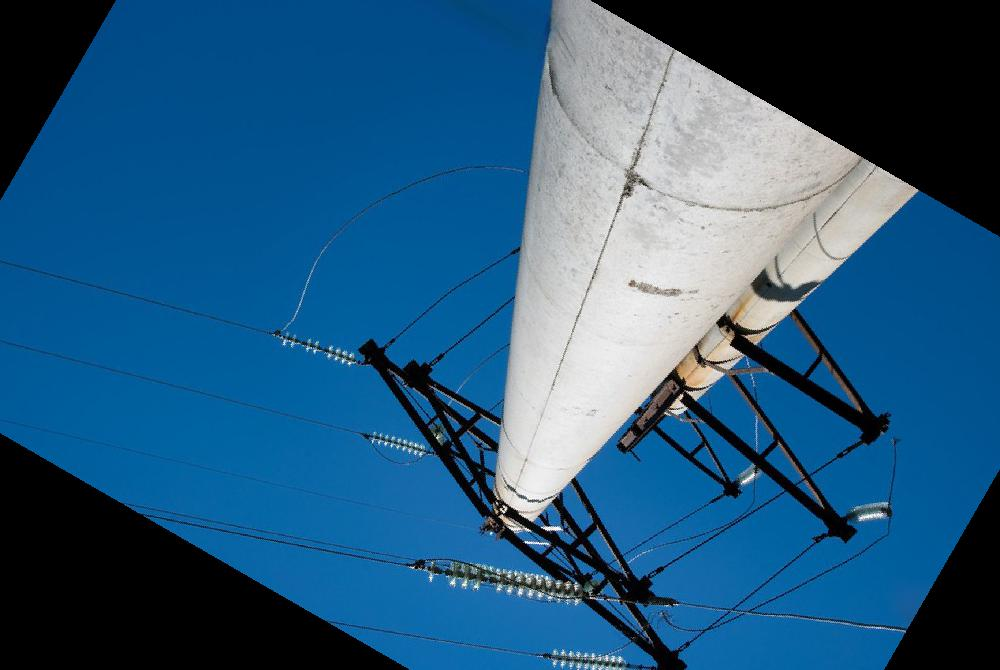insulator: (424, 556, 588, 609), (278, 329, 359, 371), (547, 646, 630, 670), (367, 428, 428, 459), (848, 499, 895, 524), (733, 460, 764, 487)
insulator_stringdrop: (468, 567, 508, 598), (426, 557, 459, 588), (311, 337, 335, 361), (288, 331, 314, 353)
